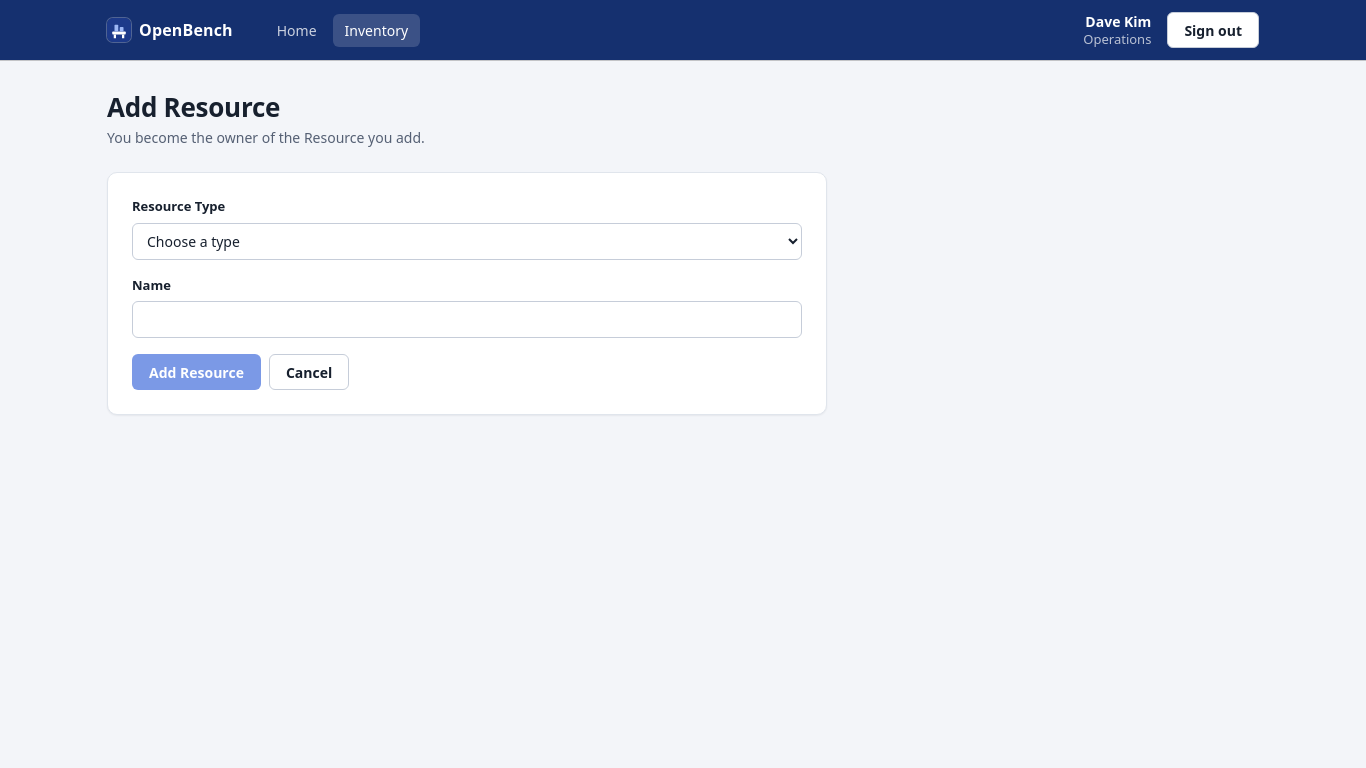
Test case: AddResourcePage › asks for the chosen type’s attributes by kind and posts them
The image size is (1366, 768).
Select "Meeting room" in the dropdown labelled "Resource Type" at (467,241), box [132, 223, 802, 260]
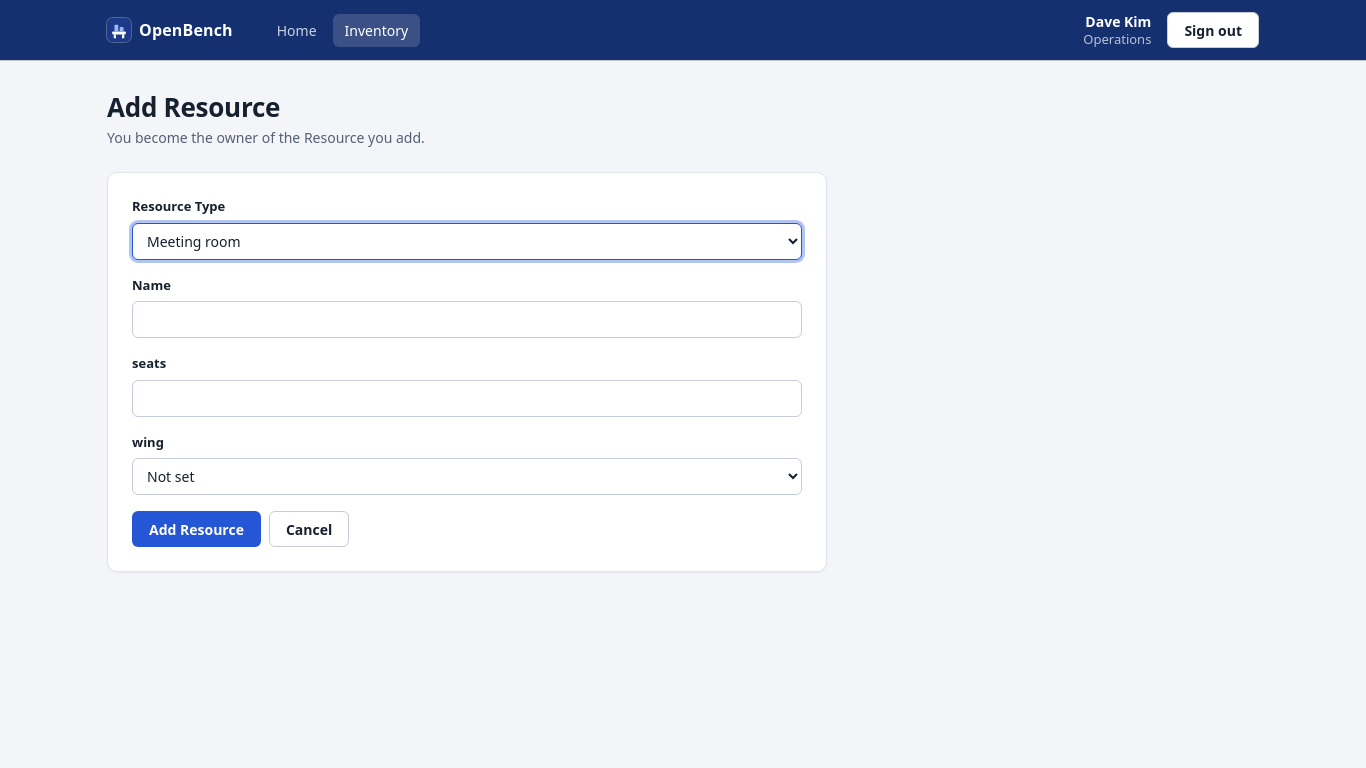
Expected: the field labelled "Units" is not shown
Type "Room C" into the field labelled "Name" at (467,320), box [132, 301, 802, 338]
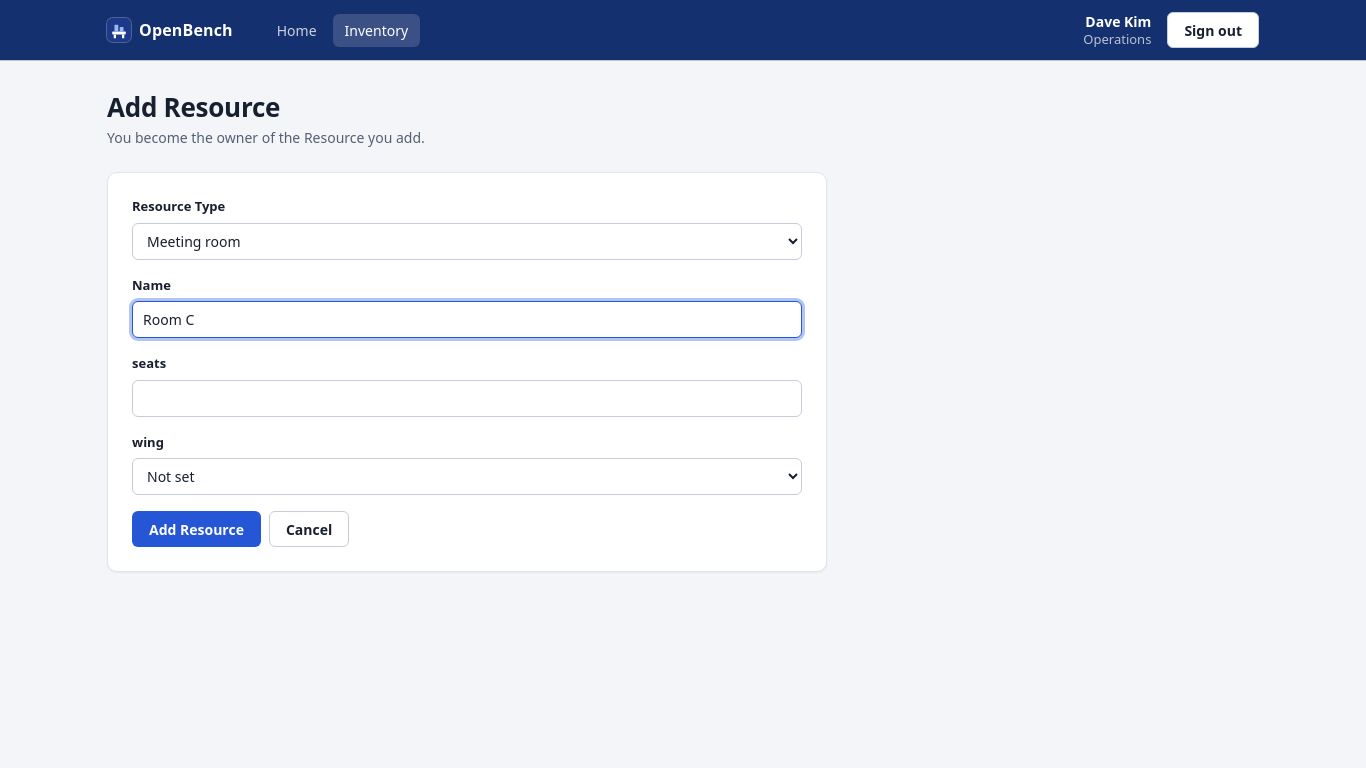
Type "10" into the number field labelled "seats" at (467,398), box [132, 380, 802, 417]
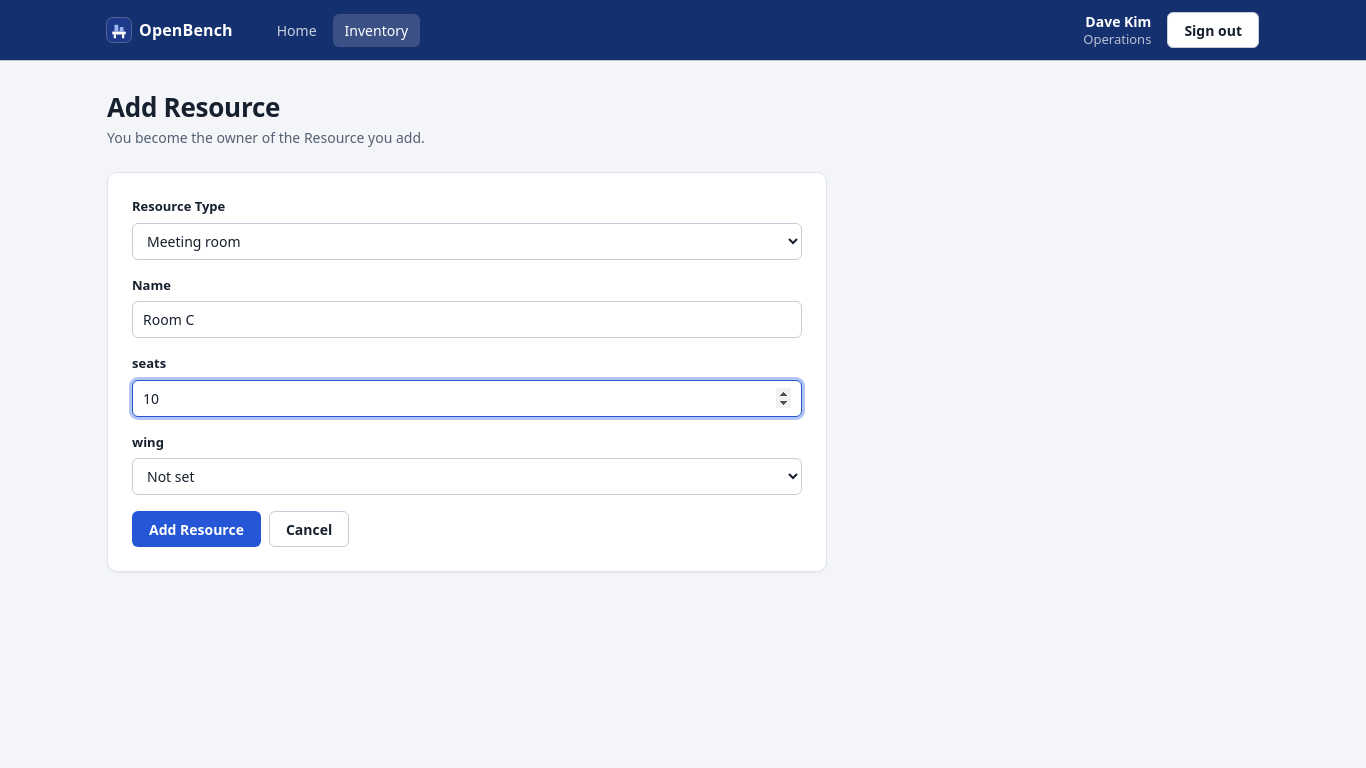
Select "North" in the dropdown labelled "wing" at (467,477), box [132, 458, 802, 495]
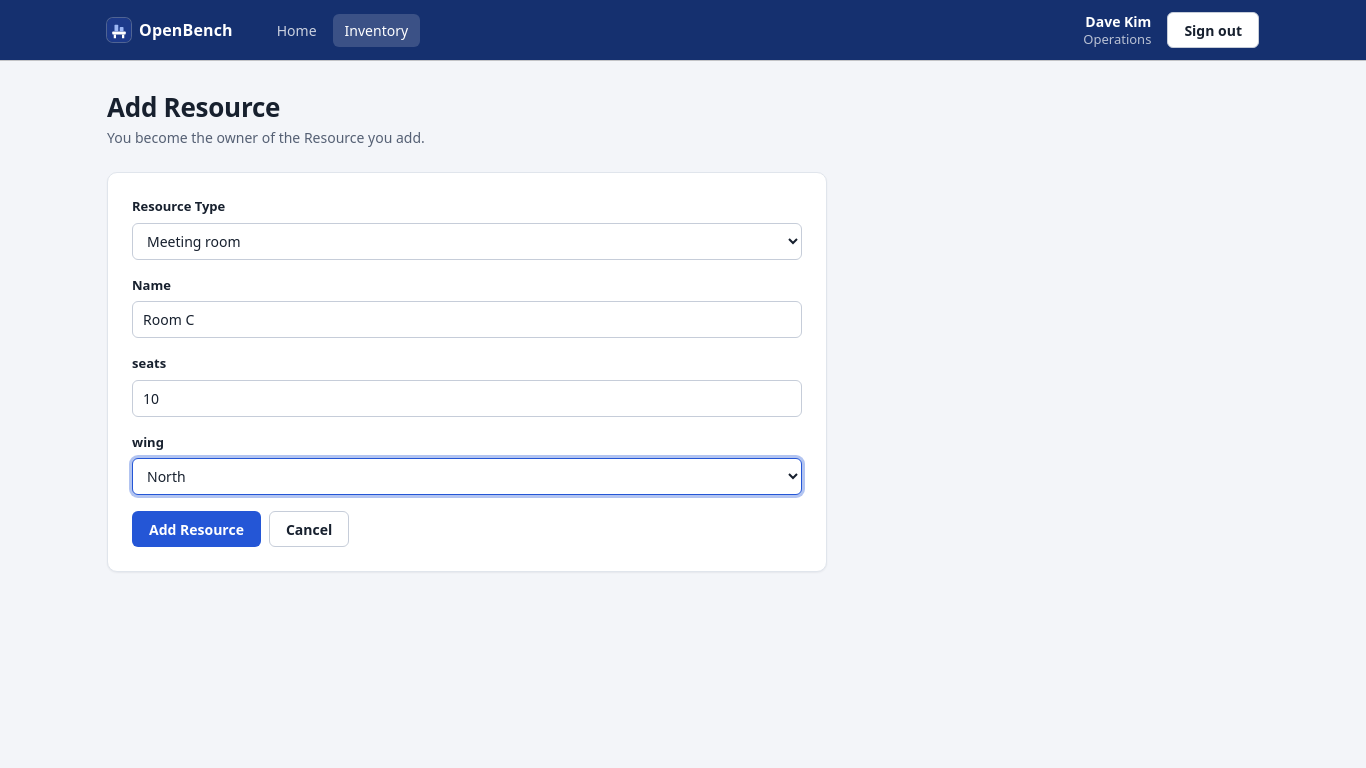
Click the button "Add Resource" at (196,529), box [132, 511, 261, 547]
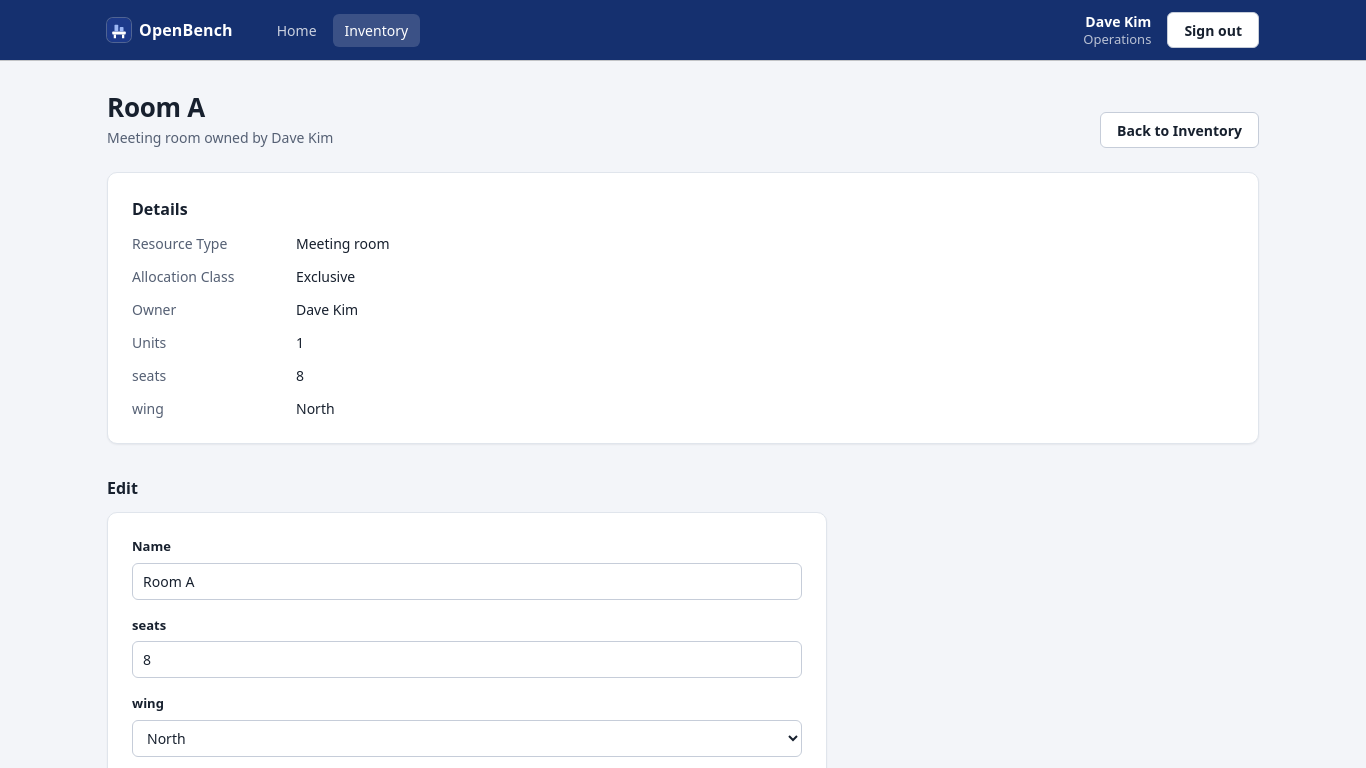
Expected: the heading "Room A" is shown, [107, 89, 205, 125]
